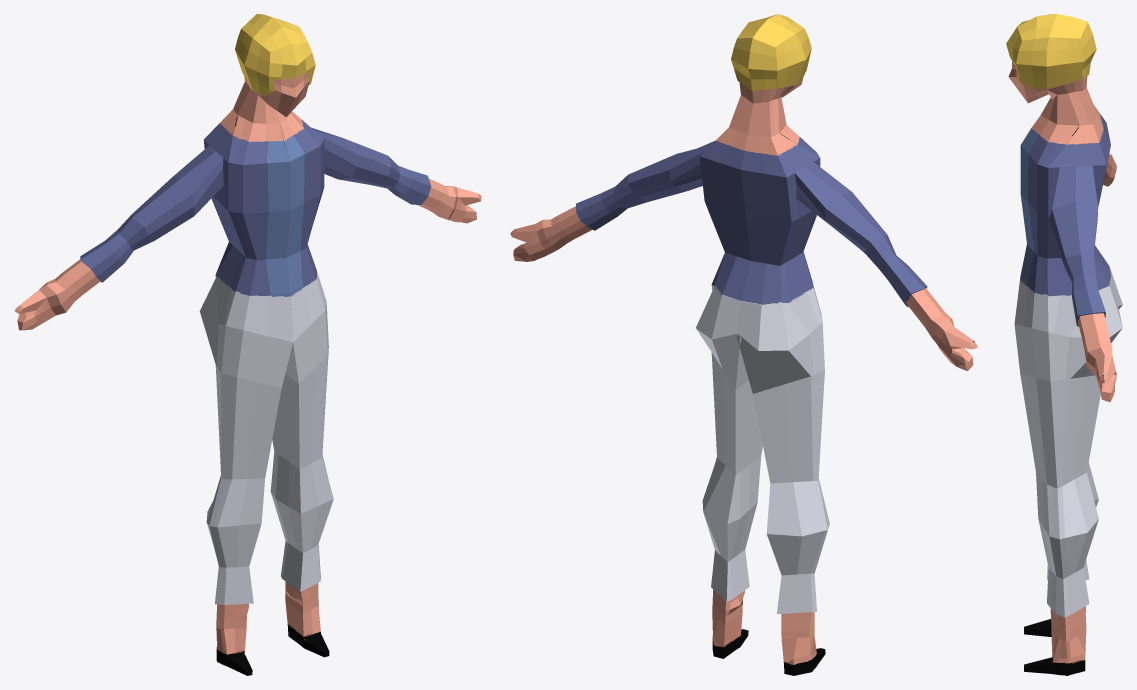
File: Prota.fbx
3 renders of one model, left to right at view 1: azimuth 30°, elevation 25°; view 2: azimuth 150°, elevation 25°; view 3: azimuth 270°, elevation 25°, orthographic.
Parts seen in each view (by area): view 1: Cube; view 2: Cube; view 3: Cube.
Part boxes in pixels (x1=…): Cube: x1=14, y1=14, x2=481, y2=675; Cube: x1=510, y1=14, x2=977, y2=675; Cube: x1=1006, y1=14, x2=1122, y2=675.
Size of the model in its own units: 592 by 770 by 128.
